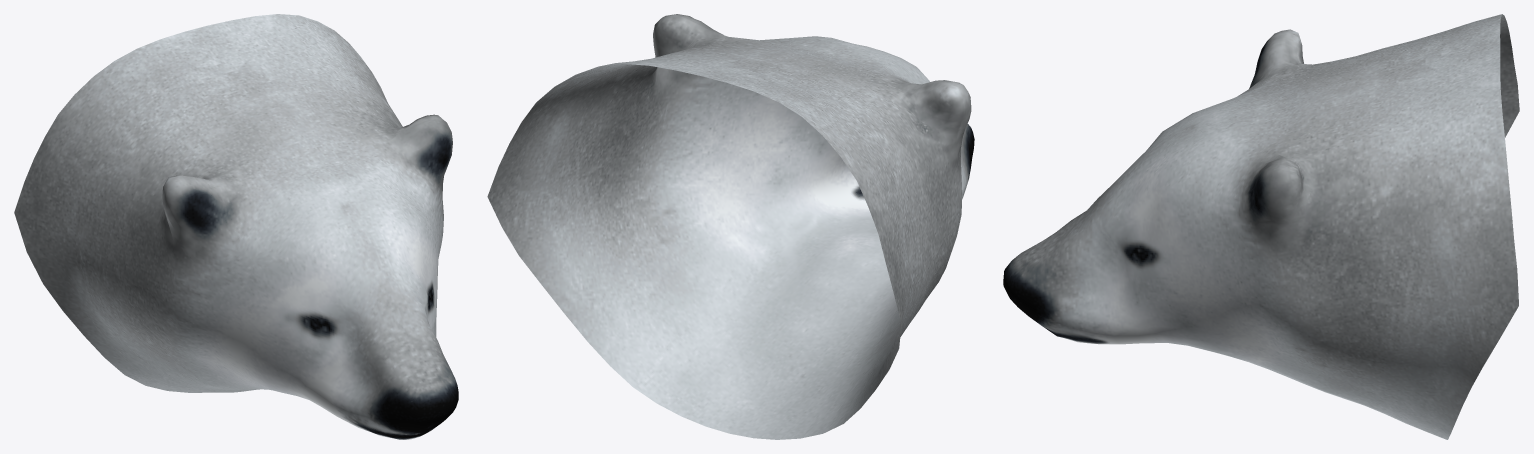
File: Polar_Bear_head.obj
The picture shows the model from 3 angles, left to right: view 1: azimuth 30°, elevation 25°; view 2: azimuth 150°, elevation 25°; view 3: azimuth 270°, elevation 25°; orthographic projection. The views are drawn at different scales.
Parts seen in each view (by area): view 1: Polar_Bear_Quad.001; view 2: Polar_Bear_Quad.001; view 3: Polar_Bear_Quad.001.
Boxes of the visible parts, left/top/right/bottom form: Polar_Bear_Quad.001: left=14, top=14, right=458, bottom=439; Polar_Bear_Quad.001: left=487, top=14, right=974, bottom=439; Polar_Bear_Quad.001: left=1003, top=14, right=1519, bottom=439.
Size of the model in its own units: 0.7413 by 0.6581 by 0.8305.
